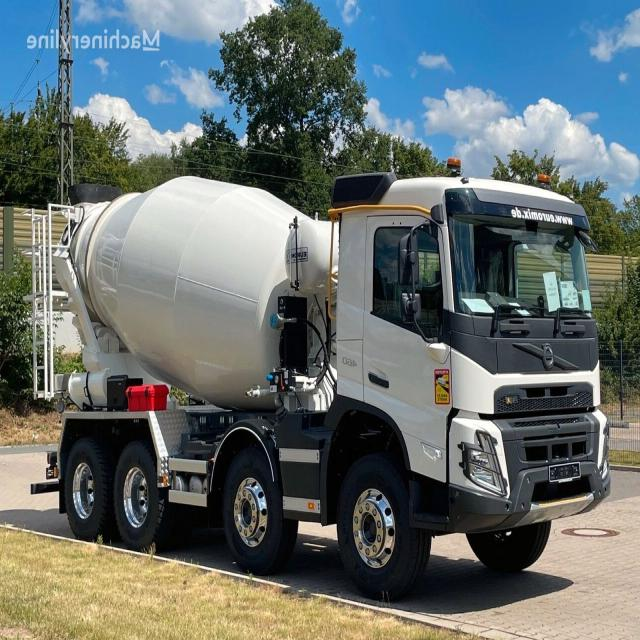truck: (33, 173, 610, 599)
